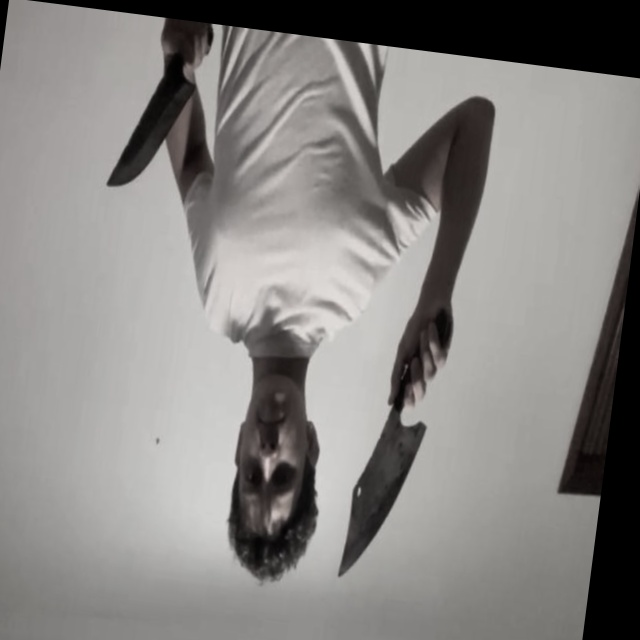Sharp-Object: (337, 409, 428, 588), (106, 72, 200, 197)
